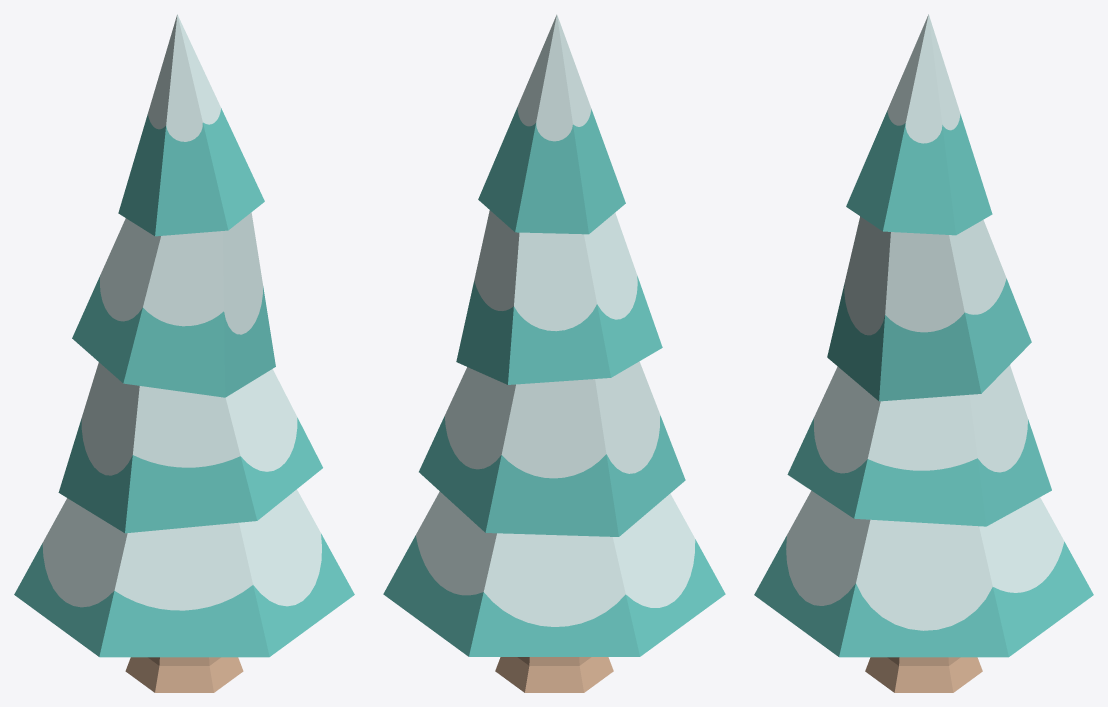
The model's file is treePineSnowRound.glb.
The picture shows the model from 3 angles, left to right: view 1: azimuth 30°, elevation 25°; view 2: azimuth 150°, elevation 25°; view 3: azimuth 270°, elevation 25°; orthographic projection.
Visible parts, largest first — view 1: treePineSnowRound(Clone); view 2: treePineSnowRound(Clone); view 3: treePineSnowRound(Clone).
Boxes of the visible parts, bbox=[...] form: treePineSnowRound(Clone): bbox=[14, 14, 354, 692]; treePineSnowRound(Clone): bbox=[383, 14, 725, 692]; treePineSnowRound(Clone): bbox=[754, 14, 1093, 692].
Size of the model in its own units: 0.651 by 1.6 by 0.7517.
